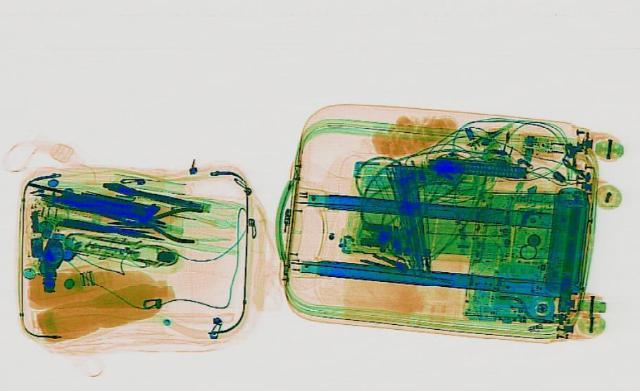Pliers: (104, 199, 202, 243)
